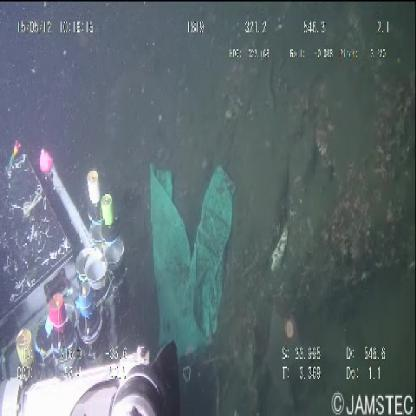Rác: (149, 157, 238, 362)
